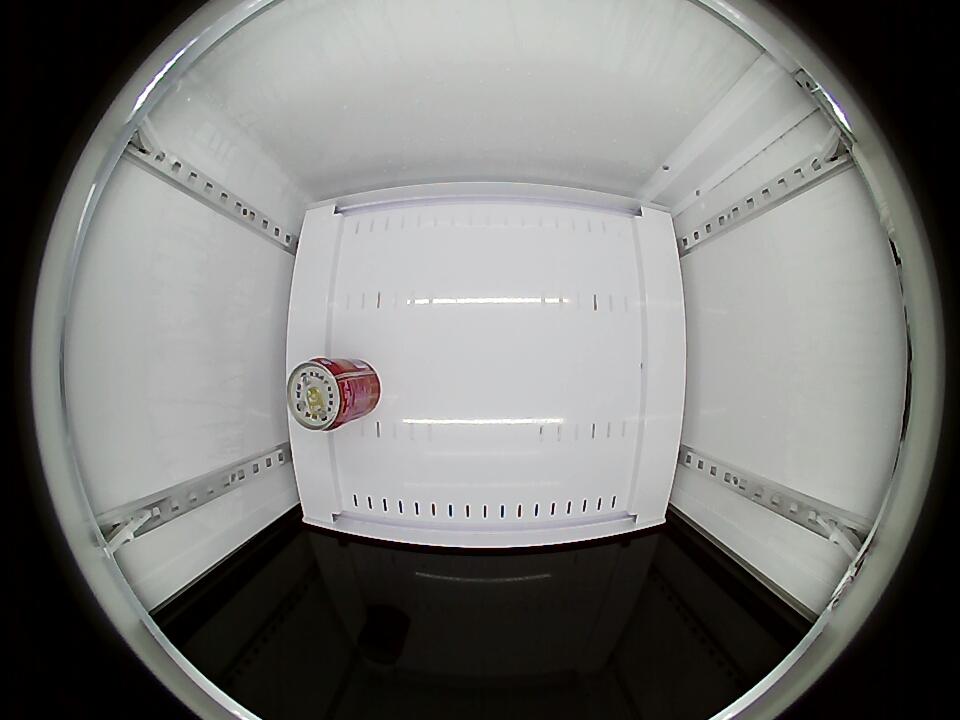wangzainiunai: (288, 356, 361, 434)
